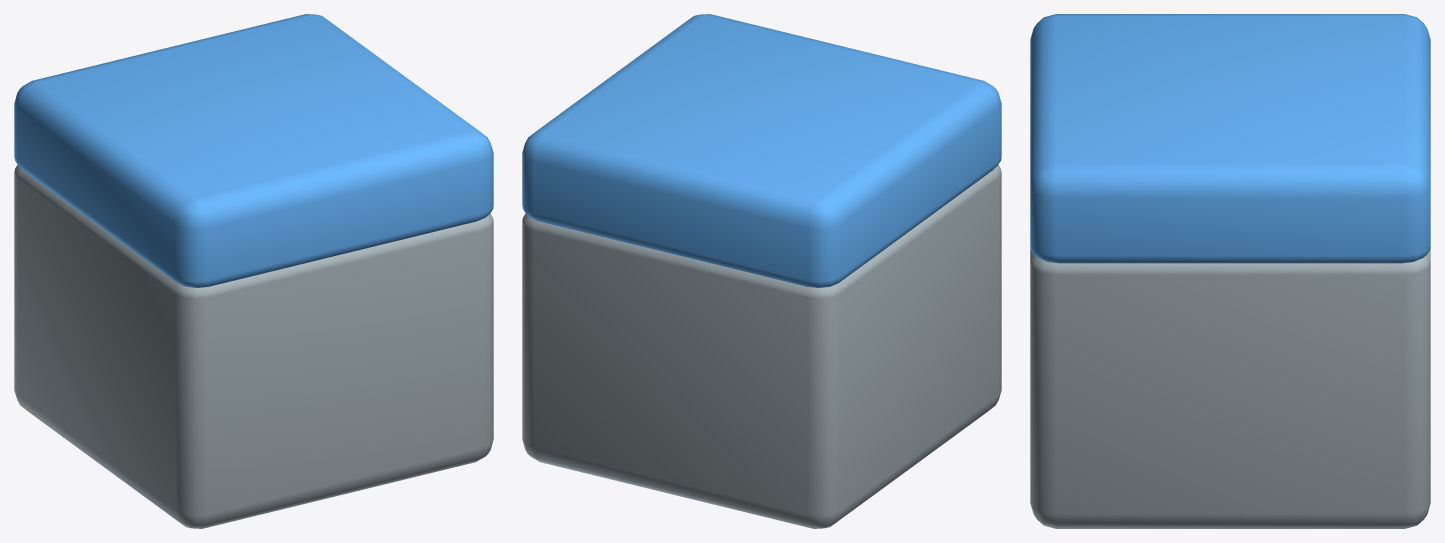
File: tileHigh_teamBlue.glb
The picture shows the model from 3 angles, left to right: view 1: azimuth 30°, elevation 25°; view 2: azimuth 150°, elevation 25°; view 3: azimuth 270°, elevation 25°; orthographic projection. The views are drawn at different scales.
Parts seen in each view (by area): view 1: tileHigh_teamBlue; view 2: tileHigh_teamBlue; view 3: tileHigh_teamBlue.
Part boxes in pixels (bbox=[...]): tileHigh_teamBlue: bbox=[14, 14, 493, 528]; tileHigh_teamBlue: bbox=[522, 14, 1001, 528]; tileHigh_teamBlue: bbox=[1030, 14, 1430, 528].
Bounding box in the file's own units: 0.6 × 0.6 × 0.6.
